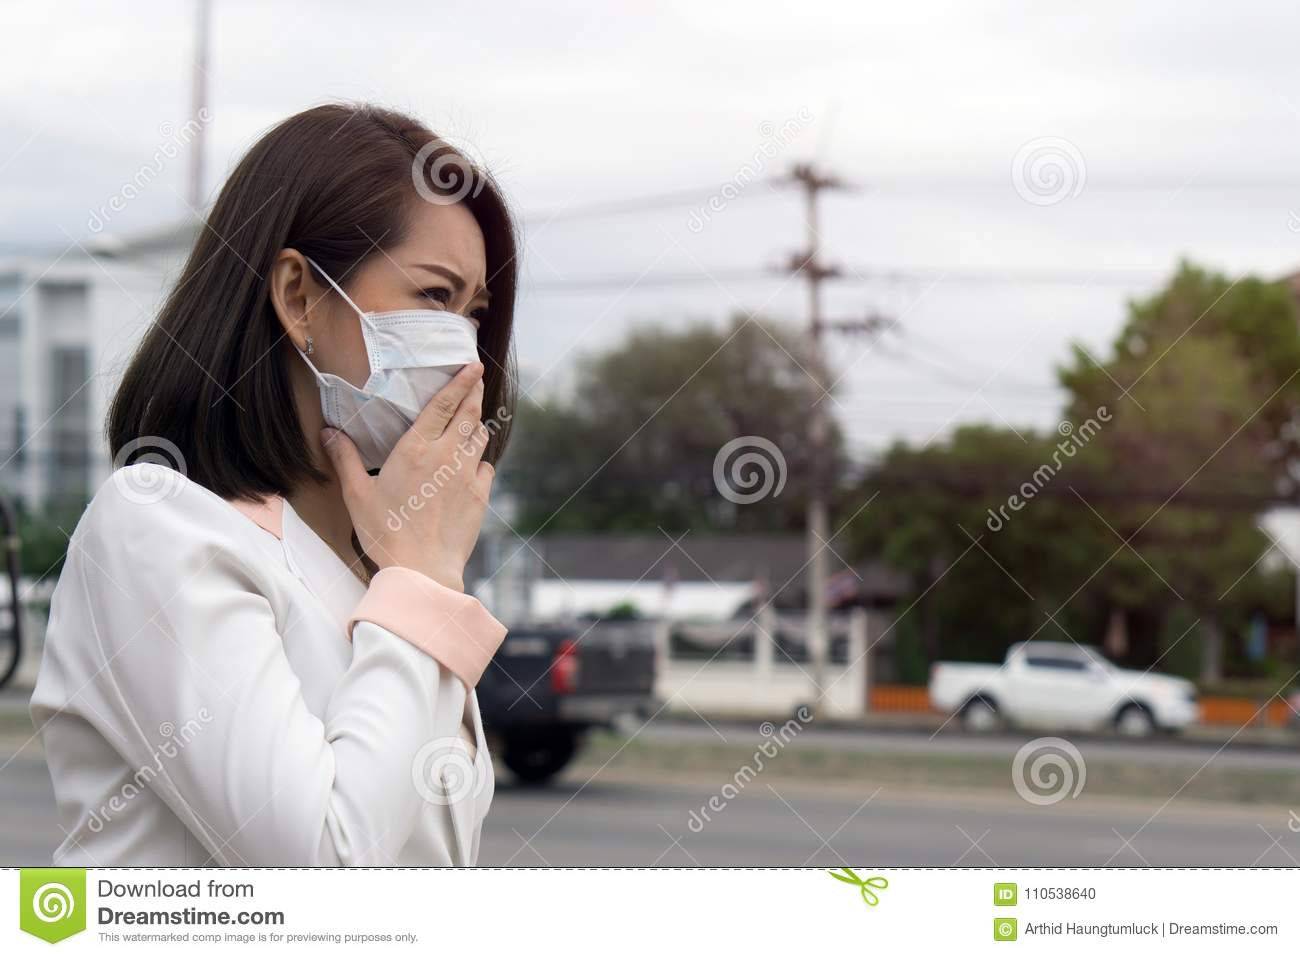mask: (322, 312, 482, 476)
